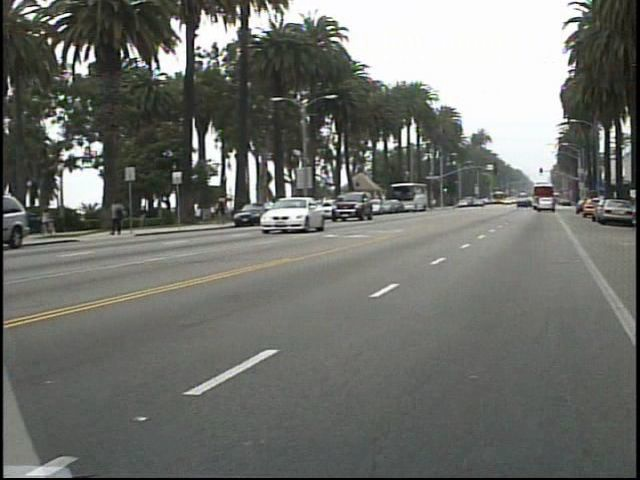person: (115, 194, 137, 237), (219, 189, 238, 224)
